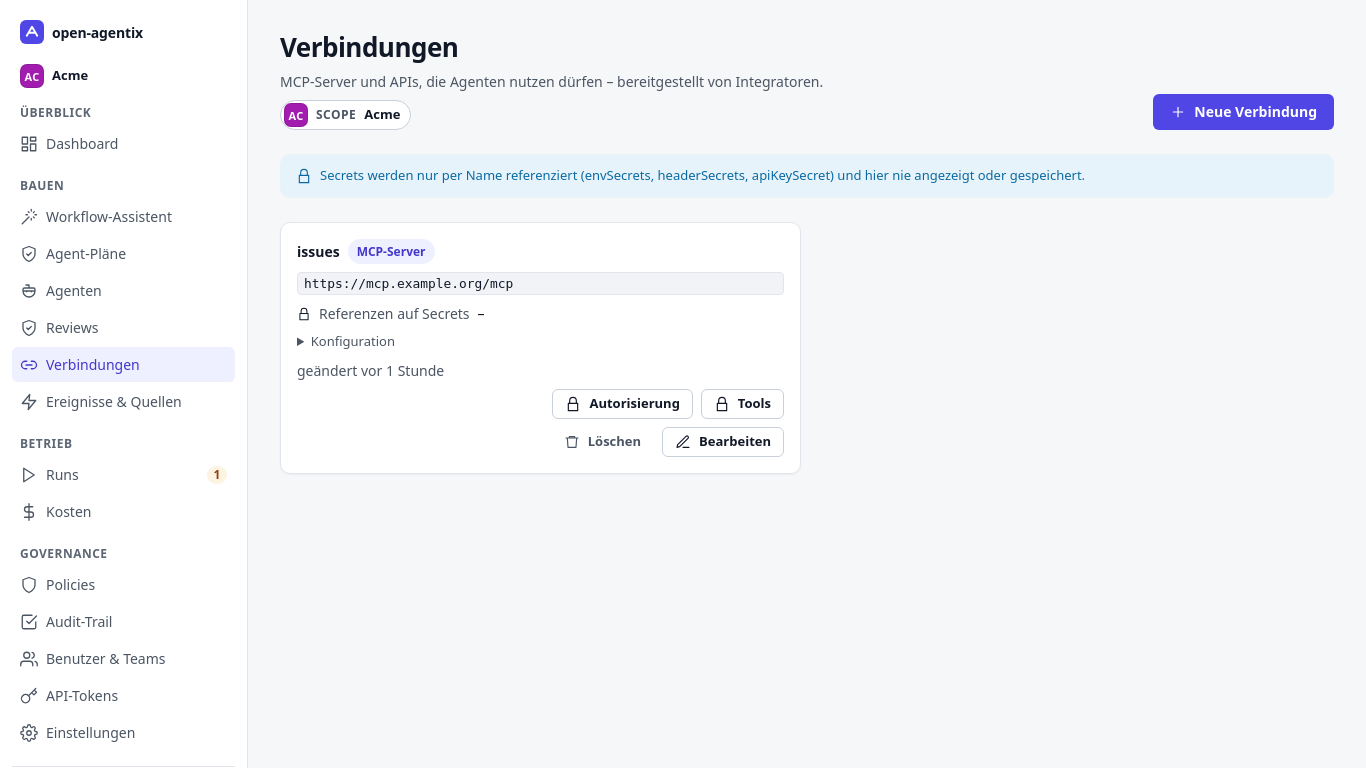
Test: Authorization of an OAuth connection › is available in German
Click the button "Autorisierung" at (623, 404), box [552,389,693,419]
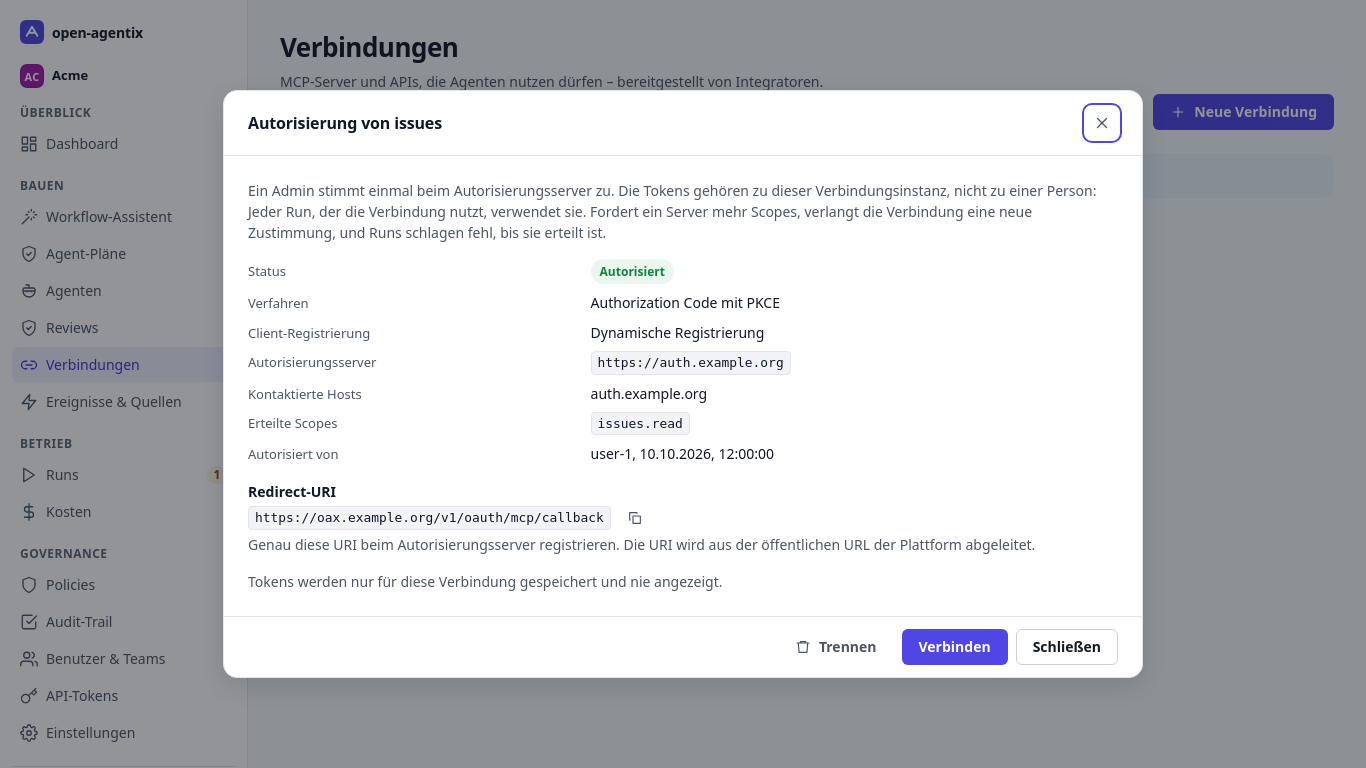
Check: the dialog "Autorisierung von issues" is shown, box [223,90,1143,678]
Check: the text "Autorisiert" is shown, box [591,259,674,284]
